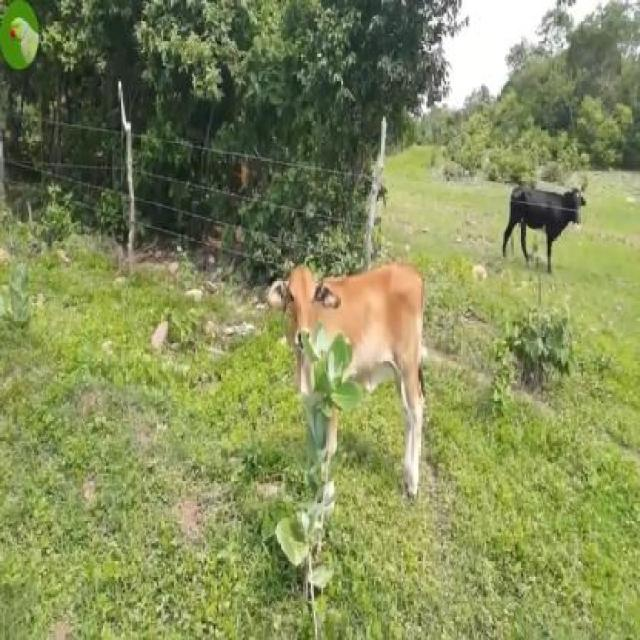Cow: (269, 265, 423, 500), (503, 186, 586, 266)
